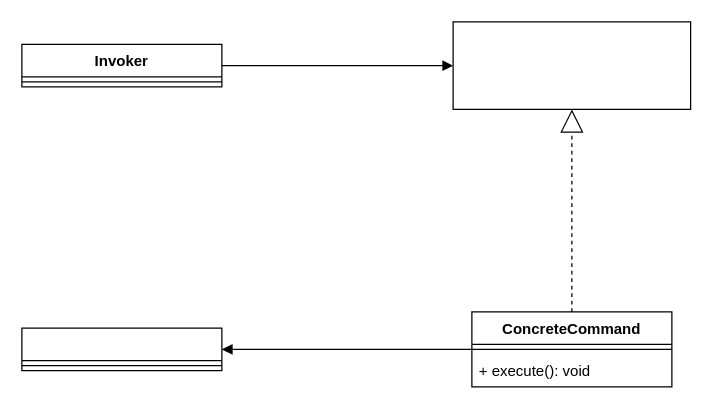
Some shapes in this 713 by 413 pixel diagram are drawn without their labels. The box of each missing label's shape, as (x1, y1, x2, y2) in pixels:
<<Interface>> Command + execute(): void: (452, 21, 691, 109)
Receiver: (21, 327, 222, 371)
